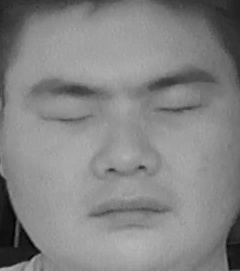blink: (47, 99, 96, 136), (153, 93, 199, 127)
mouth: (87, 189, 173, 234)
